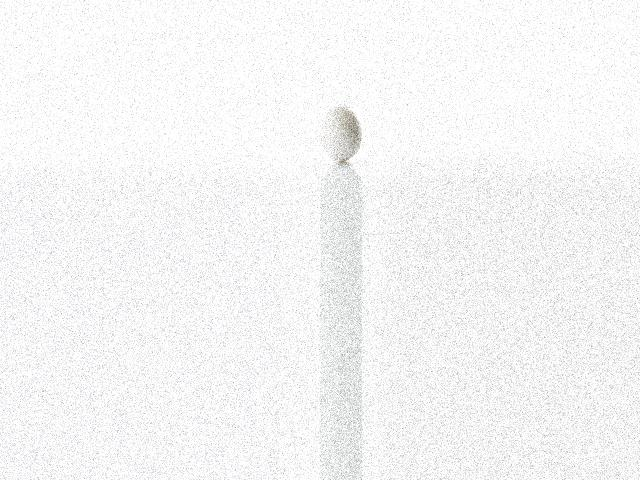egg: (320, 104, 361, 162)
